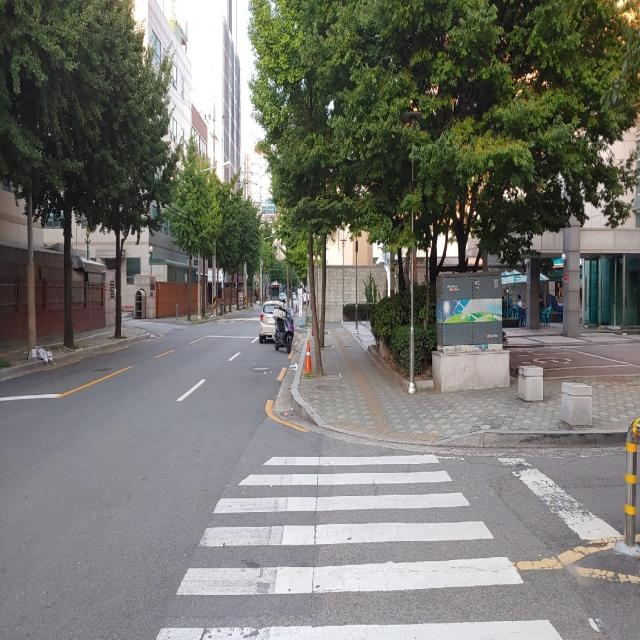횡단보도: (154, 454, 564, 640)
